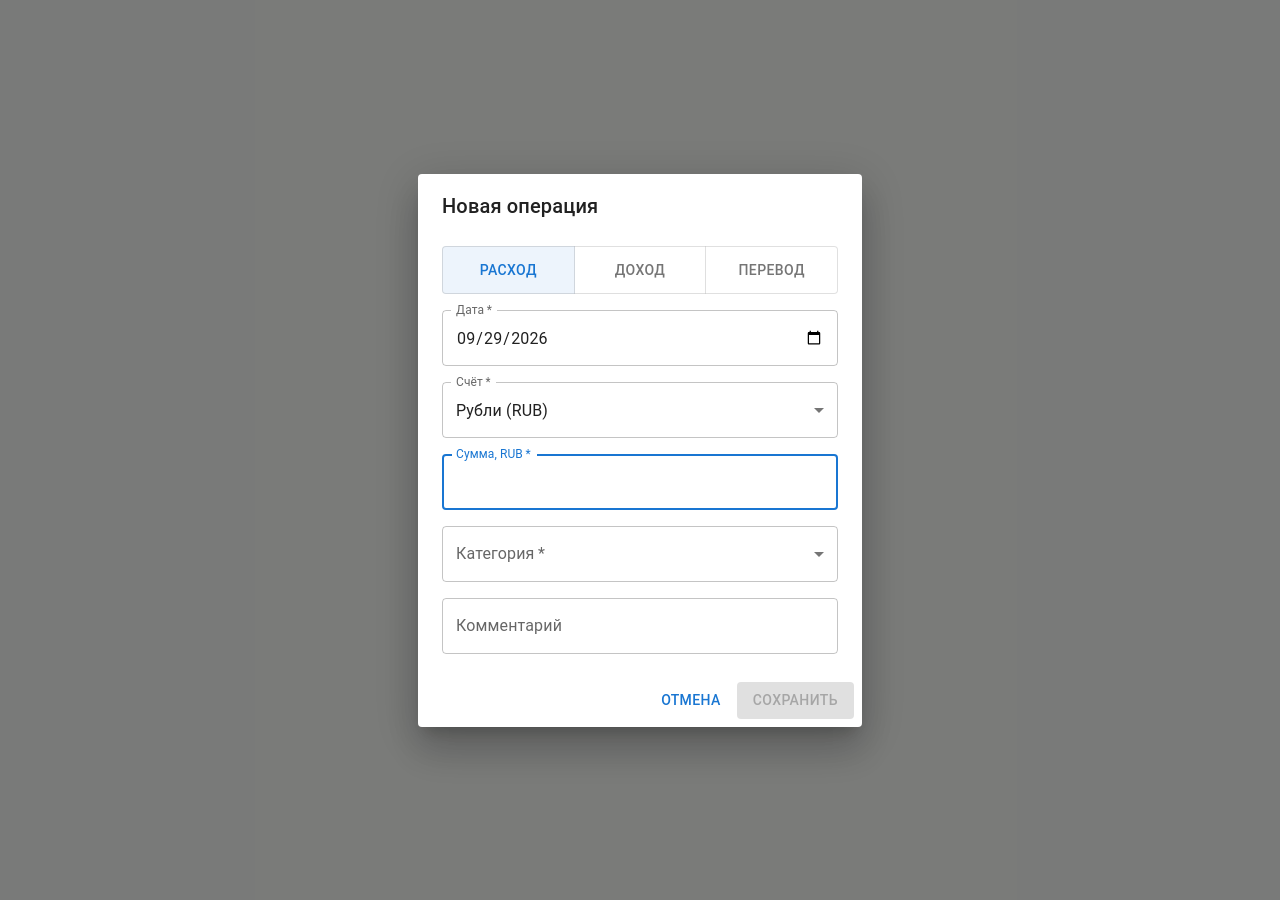
TransactionDialog › для перевода между валютами требует сумму зачисления
The image size is (1280, 900).
Click the button "Перевод" at point(772, 270), box top-left (705, 246), bottom-right (838, 294)
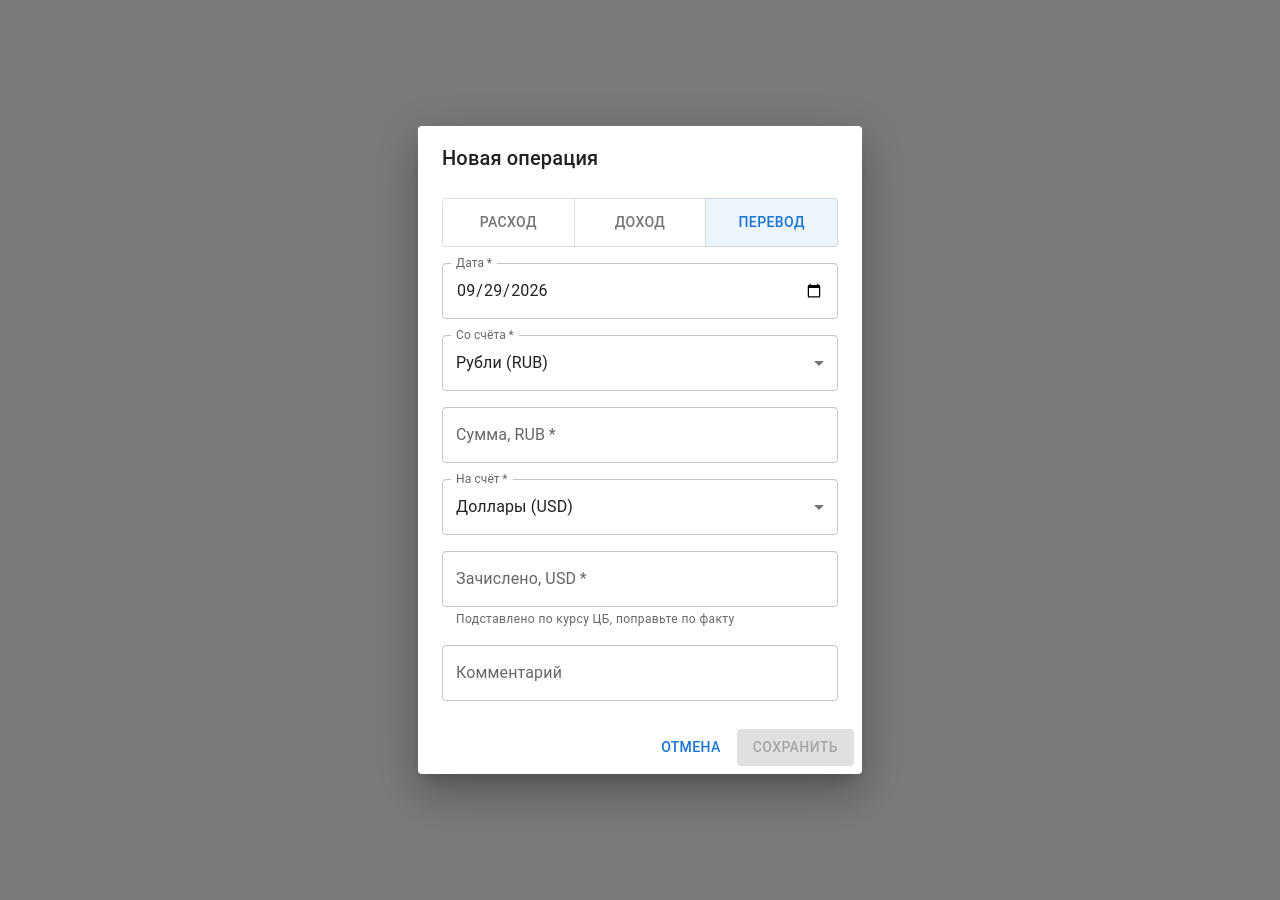
Type "9200" into the field labelled "Сумма, RUB *" at point(640, 434), box top-left (442, 406), bottom-right (838, 462)
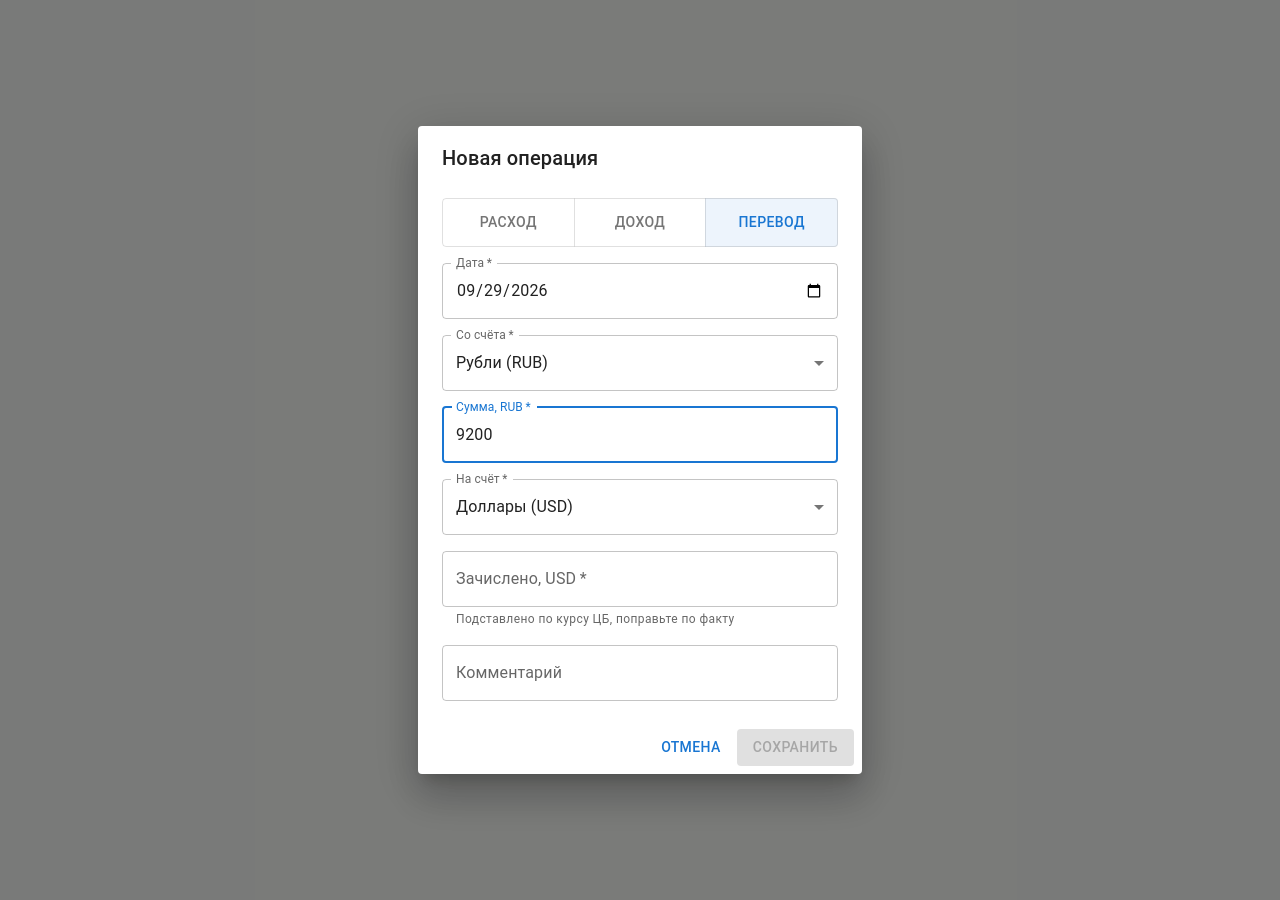
expect the button "Сохранить" is disabled: met, box top-left (737, 730), bottom-right (854, 766)
expect the field labelled "Зачислено, USD *" is shown: met
Type "100" into the field labelled "Зачислено, USD *" at point(640, 578), box top-left (442, 550), bottom-right (838, 606)
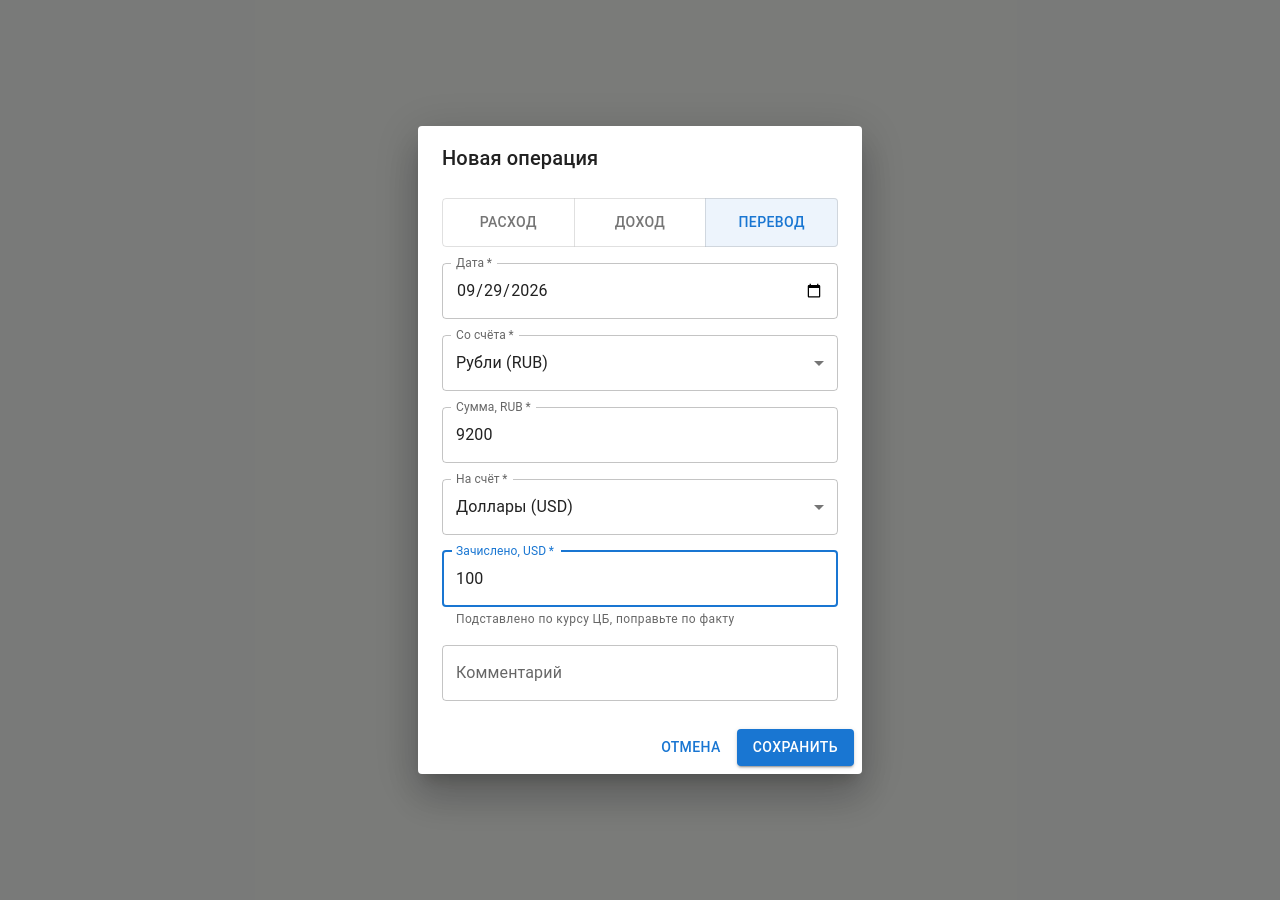
expect the button "Сохранить" is enabled: met, box top-left (737, 730), bottom-right (854, 766)
